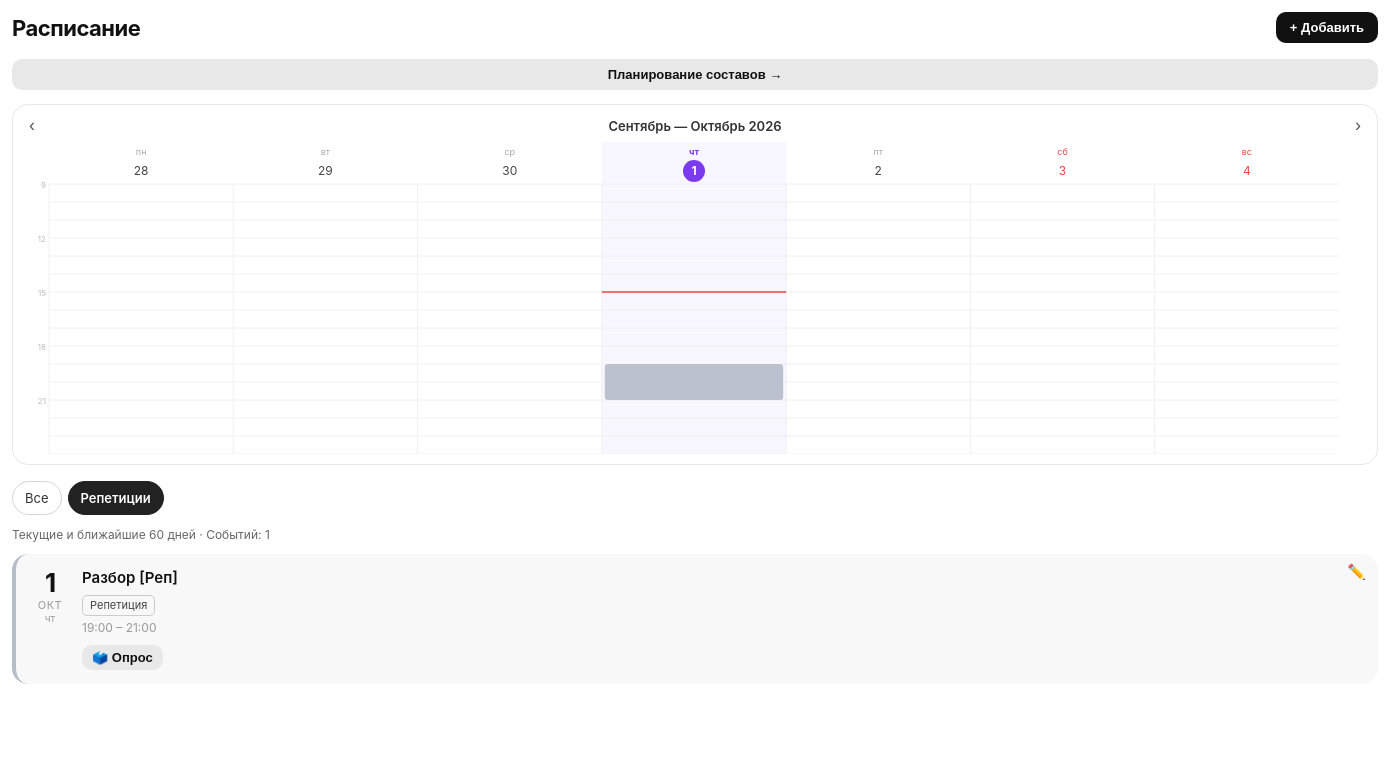
Test: offers existing shows for an unknown rehearsal and sends only after selection
Click the button "🗳️ Опрос": click(122, 658) 82,645 -> 163,670
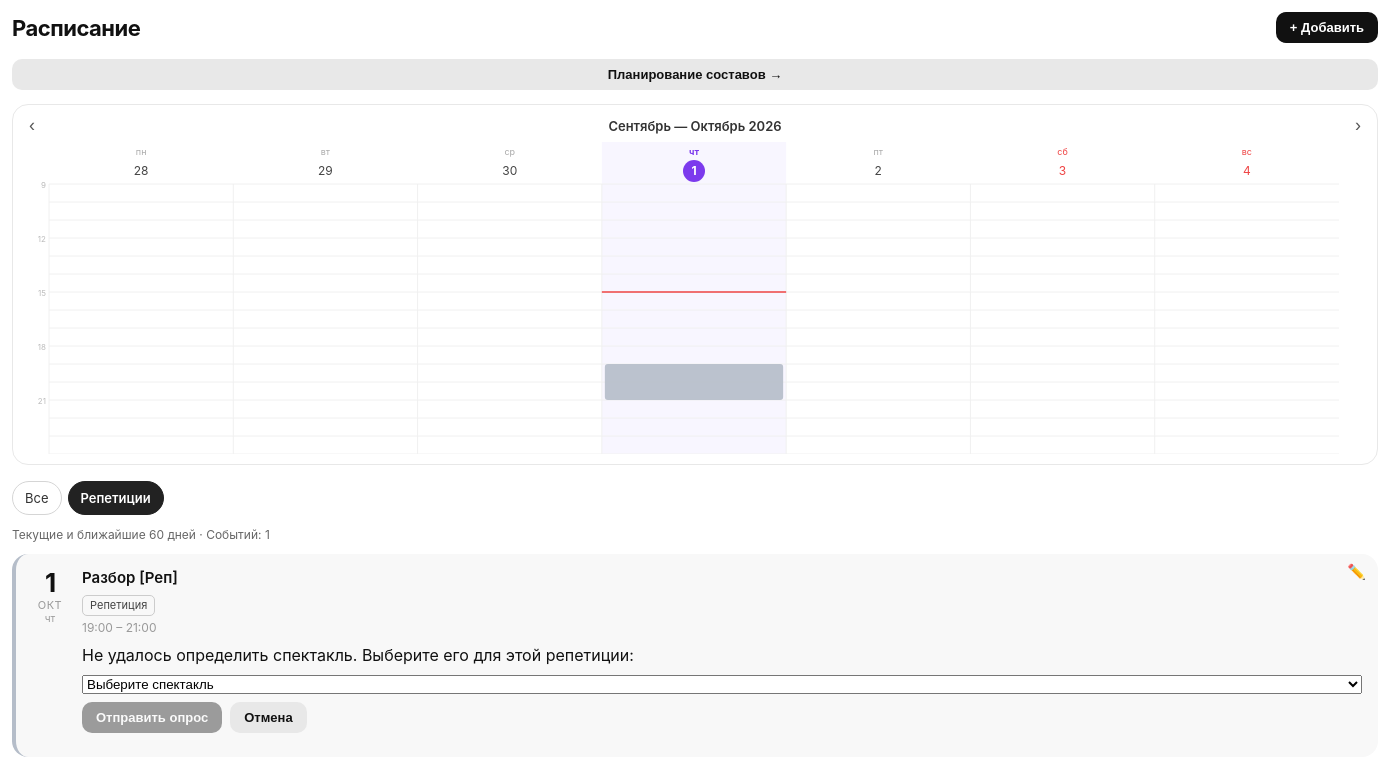
expect the button "Отправить опрос" is disabled: met, box 82,702 -> 222,733
Select "Гамлет" in the dropdown: (722, 685) 82,675 -> 1362,694
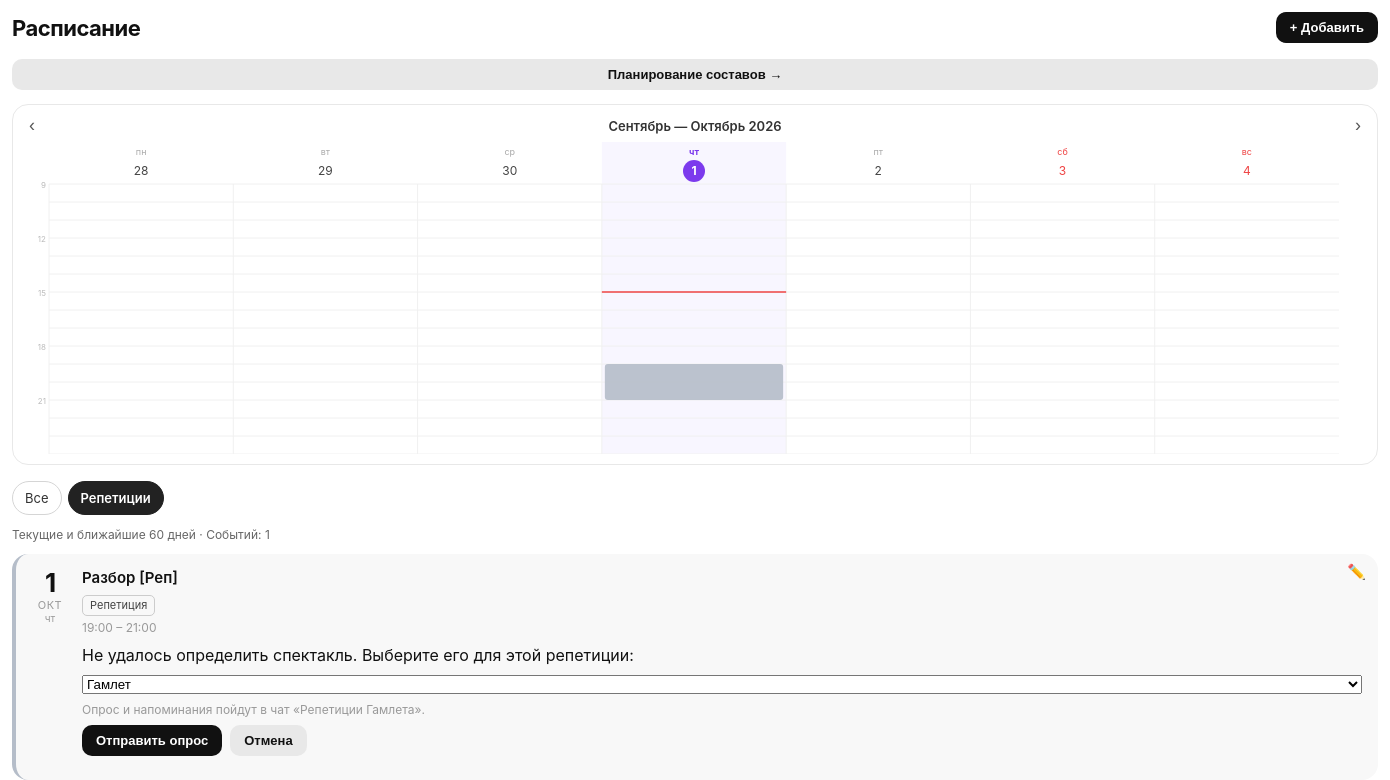
expect the text "Опрос и напоминания пойдут в чат «Репетиции Гамлета»" is shown: met, box 82,702 -> 425,717
Click the button "Отправить опрос": click(152, 741) 82,725 -> 222,756
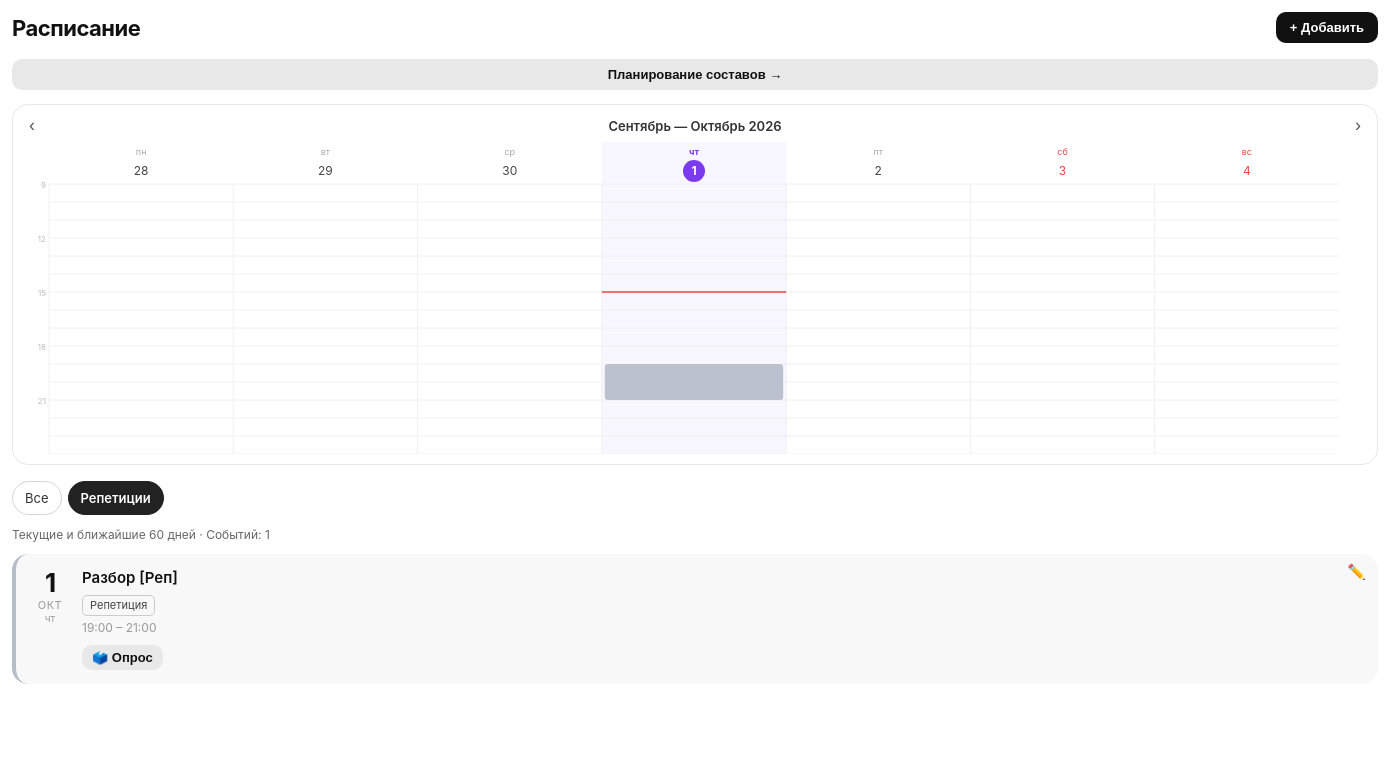
expect the label is gone: met
